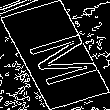M_E: (12, 24, 98, 86)
